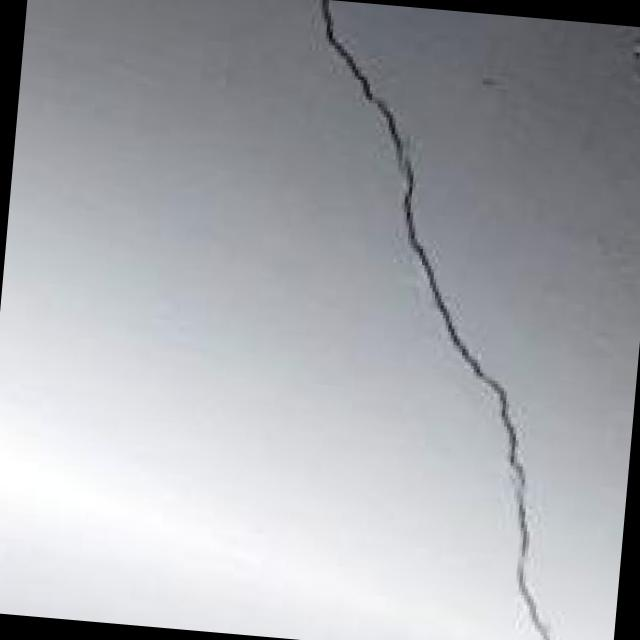crack: (257, 0, 638, 640)
